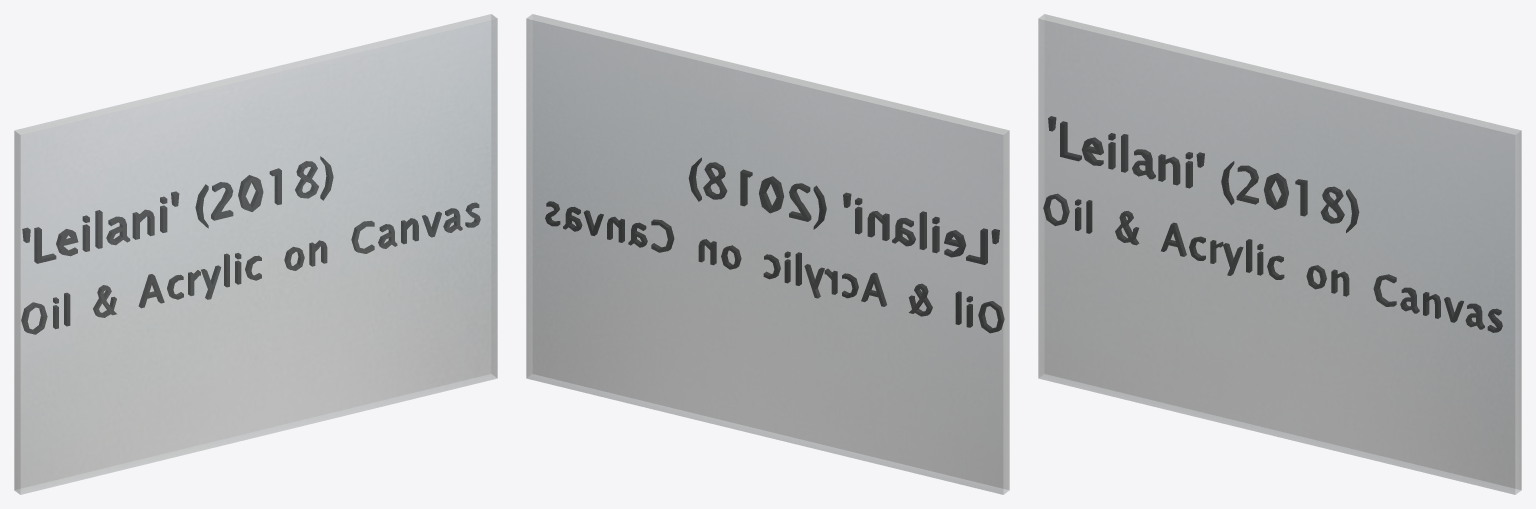
The model's file is Leilaniglassdisplayed.fbx.
The picture shows the model from 3 angles, left to right: view 1: azimuth 30°, elevation 25°; view 2: azimuth 150°, elevation 25°; view 3: azimuth 330°, elevation 25°; orthographic projection.
Parts seen in each view (by area): view 1: pCube2, typeMesh1, typeMesh; view 2: pCube2, typeMesh1, typeMesh; view 3: pCube2, typeMesh1, typeMesh.
Boxes of the visible parts, left/top/right/bottom form: pCube2: left=14, top=14, right=497, bottom=494; typeMesh1: left=21, top=202, right=480, bottom=334; typeMesh: left=22, top=156, right=333, bottom=263; pCube2: left=526, top=14, right=1009, bottom=494; typeMesh1: left=545, top=201, right=1004, bottom=333; typeMesh: left=688, top=157, right=999, bottom=264; pCube2: left=1038, top=14, right=1521, bottom=494; typeMesh1: left=1043, top=193, right=1502, bottom=332; typeMesh: left=1048, top=116, right=1359, bottom=232.
Size of the model in its own units: 8.22 by 5.93 by 0.1877.
